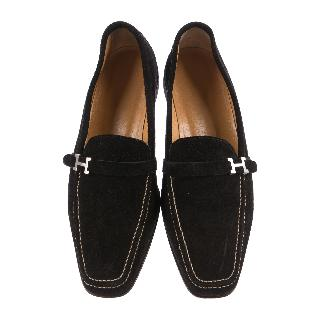loafers: (61, 17, 260, 306)
